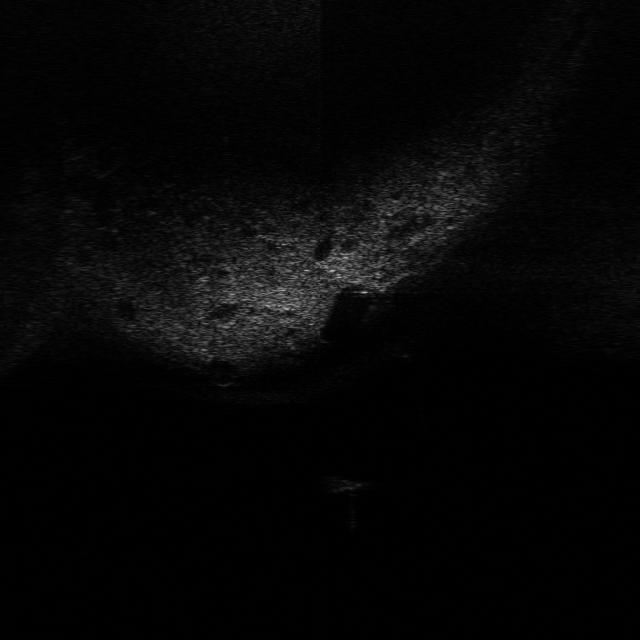cube: (316, 473, 376, 496)
